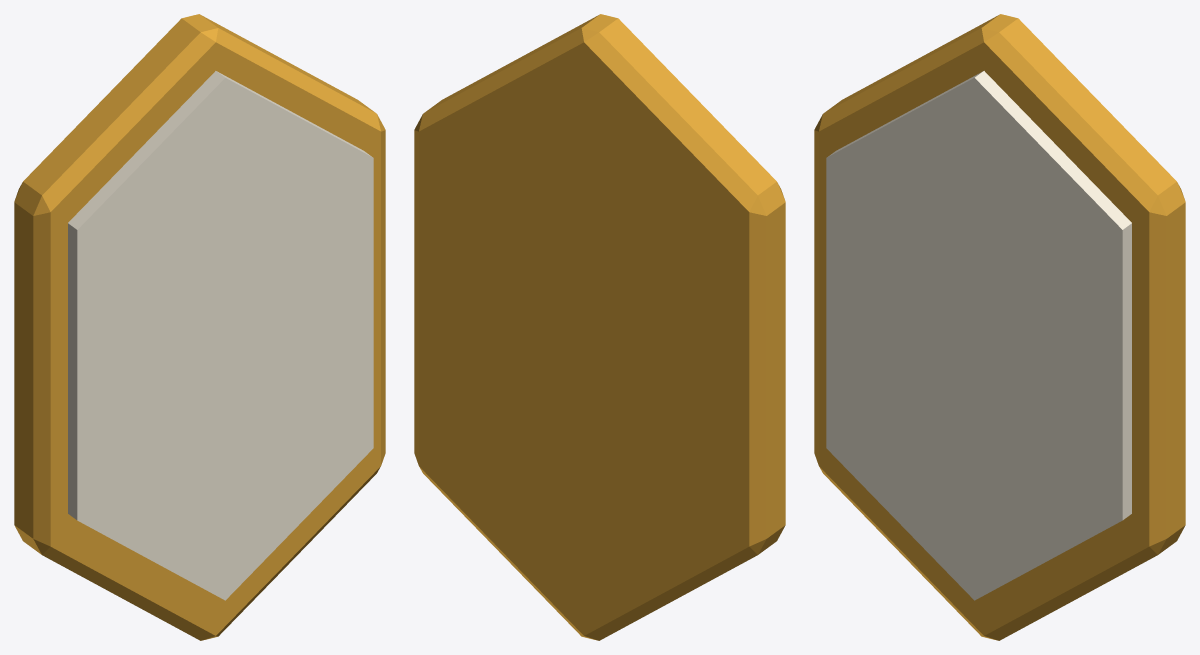
Rendered from card_suit_plaque.glb.
3 renders of one model, left to right at view 1: azimuth 30°, elevation 25°; view 2: azimuth 150°, elevation 25°; view 3: azimuth 330°, elevation 25°, orthographic.
Visible parts, largest first — view 1: card_suit_plaque; view 2: card_suit_plaque; view 3: card_suit_plaque.
Part boxes in pixels (x1=…): card_suit_plaque: x1=14, y1=14, x2=385, y2=640; card_suit_plaque: x1=414, y1=14, x2=785, y2=640; card_suit_plaque: x1=814, y1=14, x2=1185, y2=640.
Bounding box in the file's own units: 0.32 × 0.528 × 0.065.
